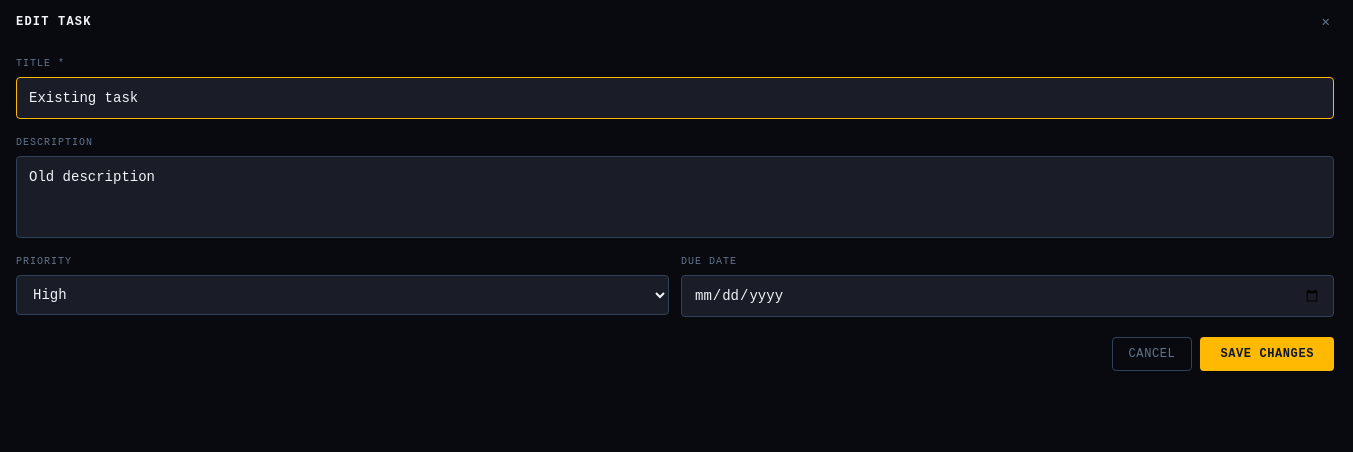
it: TaskForm — edit mode › keeps form open and shows error on update failure
The width and height of the screenshot is (1353, 452).
Click the button "Save changes" at x=1267, y=354, box [1200,337,1334,371]
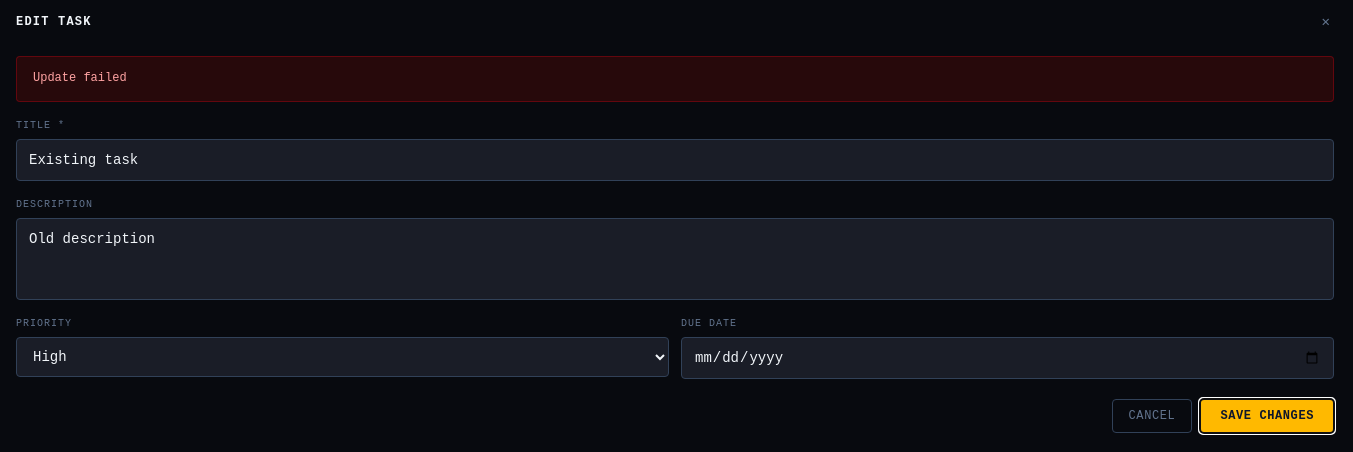
Expected: the text "Update failed" is shown, [16,56,1334,102]
